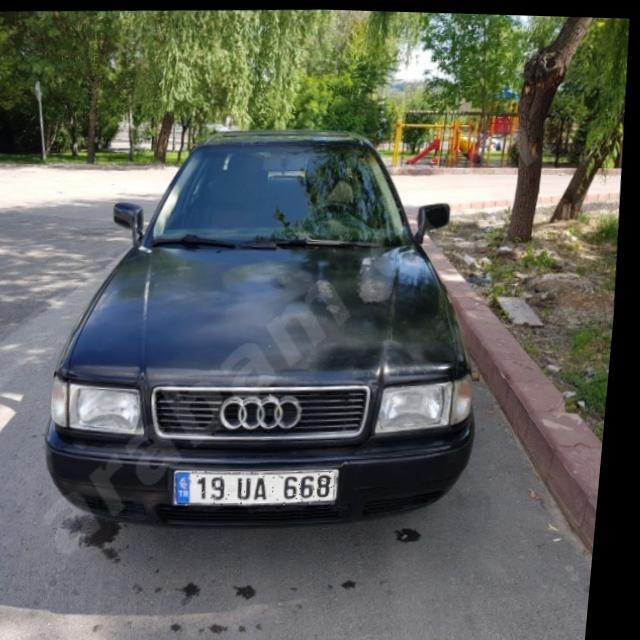license_plate: (180, 463, 346, 508)
